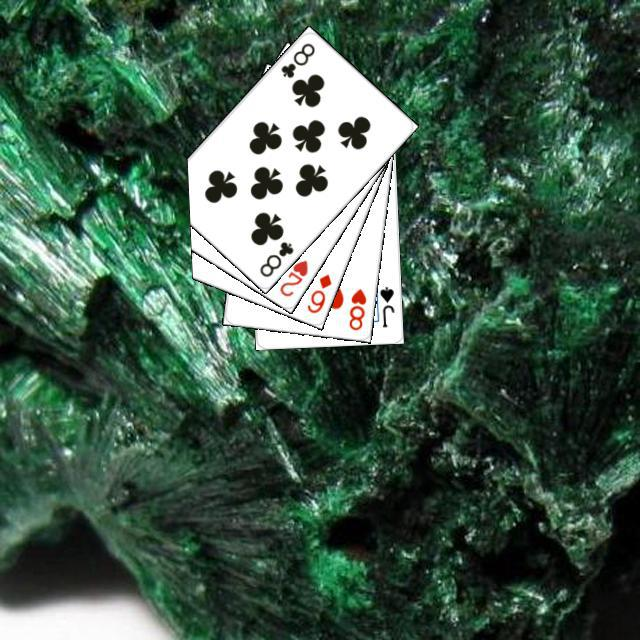2h: (275, 255, 310, 298)
6d: (302, 269, 333, 315)
8c: (276, 38, 317, 80), (255, 236, 295, 279)
8h: (344, 284, 368, 332)
Js: (375, 282, 396, 329)
